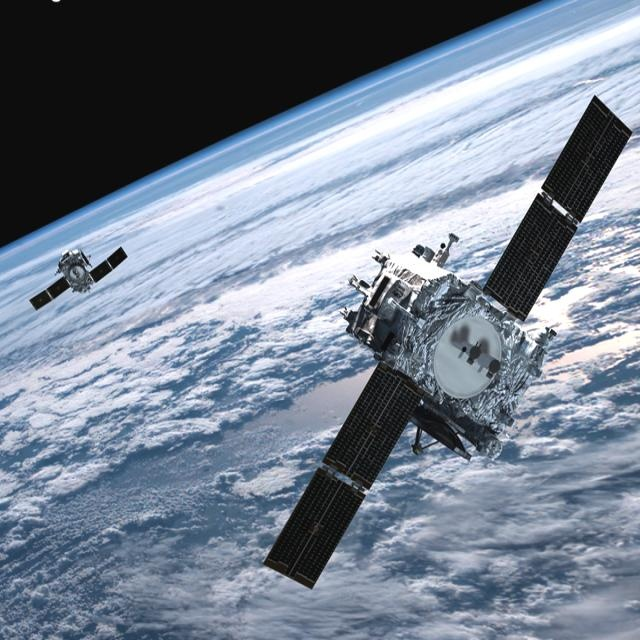satellite: (245, 84, 640, 601), (20, 233, 137, 326)
